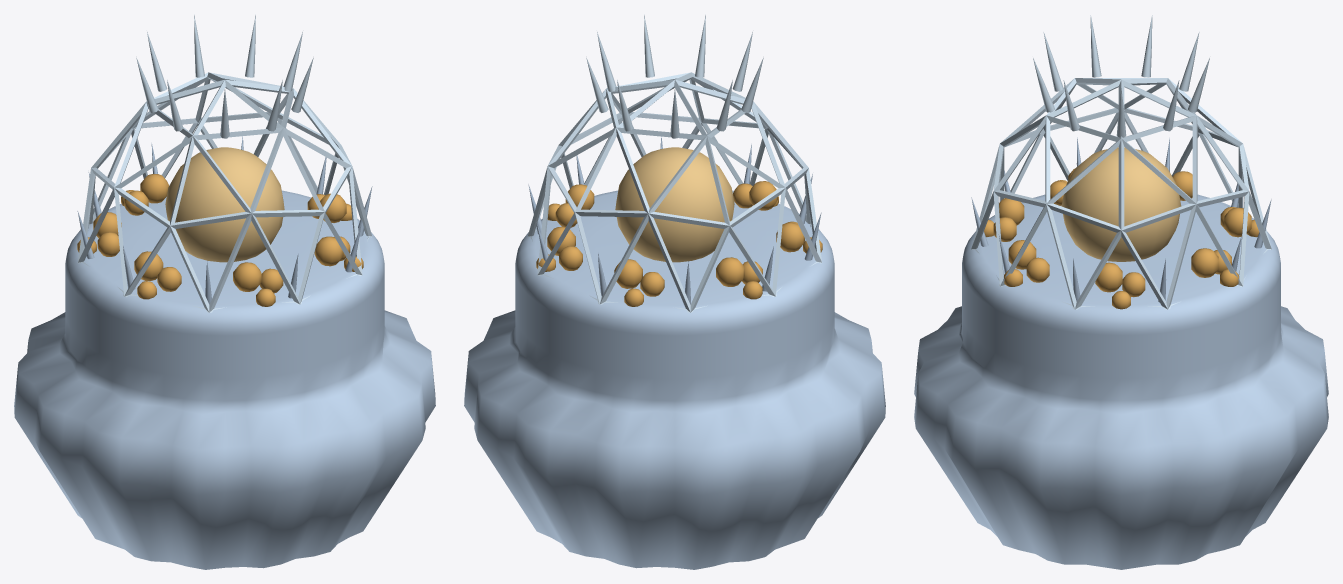
The model's file is landmark_great_shell.glb.
The picture shows the model from 3 angles, left to right: view 1: azimuth 30°, elevation 25°; view 2: azimuth 150°, elevation 25°; view 3: azimuth 270°, elevation 25°; orthographic projection.
Visible parts, largest first — view 1: LandmarkGreatShell, Growth_Beads, Growth_Needles; view 2: LandmarkGreatShell, Growth_Beads, Growth_Needles; view 3: LandmarkGreatShell, Growth_Beads, Growth_Needles.
Boxes of the visible parts, box(x1,y1,x2,y2) form: LandmarkGreatShell: box(14, 14, 435, 569); Growth_Beads: box(77, 174, 363, 306); Growth_Needles: box(77, 136, 372, 304); LandmarkGreatShell: box(464, 14, 885, 569); Growth_Beads: box(536, 181, 822, 306); Growth_Needles: box(528, 137, 821, 304); LandmarkGreatShell: box(914, 15, 1328, 569); Growth_Beads: box(984, 168, 1259, 309); Growth_Needles: box(971, 137, 1271, 302).
Bounding box in the file's own units: 5.36 × 6.52 × 5.2.
